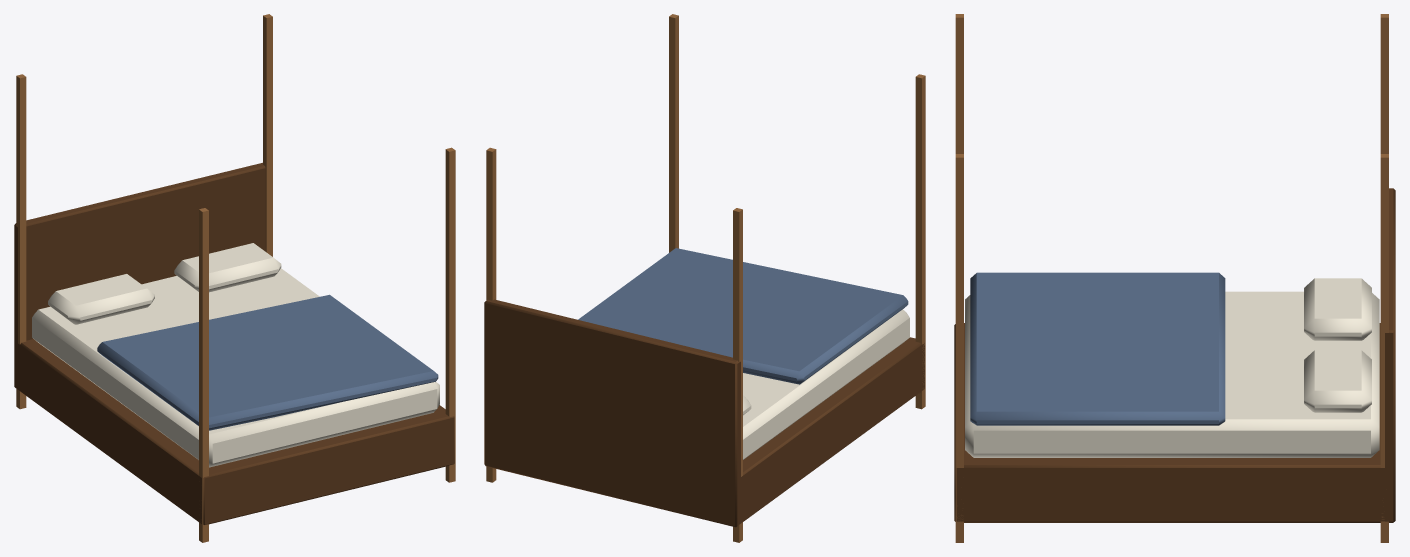
Rendered from house_bed.glb.
3 renders of one model, left to right at view 1: azimuth 30°, elevation 25°; view 2: azimuth 150°, elevation 25°; view 3: azimuth 270°, elevation 25°, orthographic. The views are drawn at different scales.
Parts seen in each view (by area): view 1: HouseBed; view 2: HouseBed; view 3: HouseBed.
Boxes of the visible parts, x1,y1,x2,y2 form: HouseBed: [14, 14, 455, 542]; HouseBed: [484, 14, 925, 542]; HouseBed: [954, 14, 1395, 542].
Bounding box in the file's own units: 1.6 × 2 × 2.07.
